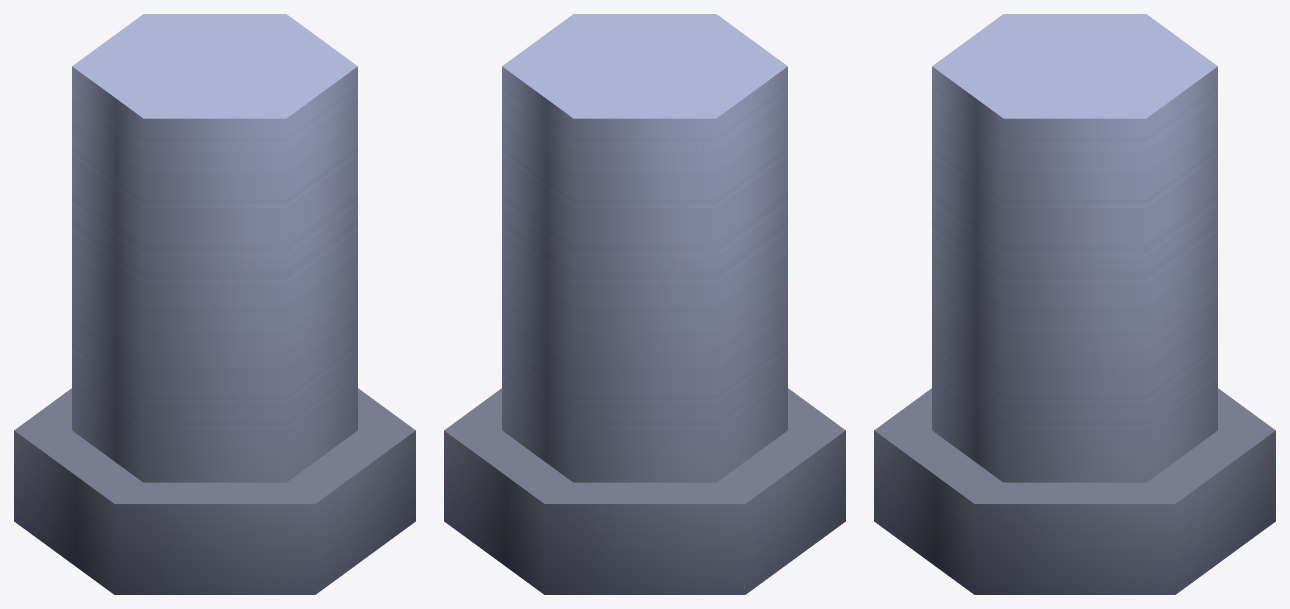
Rendered from pipe-end.glb.
3 views of the same model, side by side, from view 1: azimuth 30°, elevation 25°; view 2: azimuth 150°, elevation 25°; view 3: azimuth 270°, elevation 25° (orthographic).
Parts seen in each view (by area): view 1: pipe-end; view 2: pipe-end; view 3: pipe-end.
Boxes of the visible parts, x1,y1,x2,y2 form: pipe-end: (14, 14, 415, 594); pipe-end: (444, 14, 845, 594); pipe-end: (874, 14, 1275, 594).
Bounding box in the file's own units: 0.3464 × 0.5 × 0.4.
Materials: 1 (1 with a texture image).
